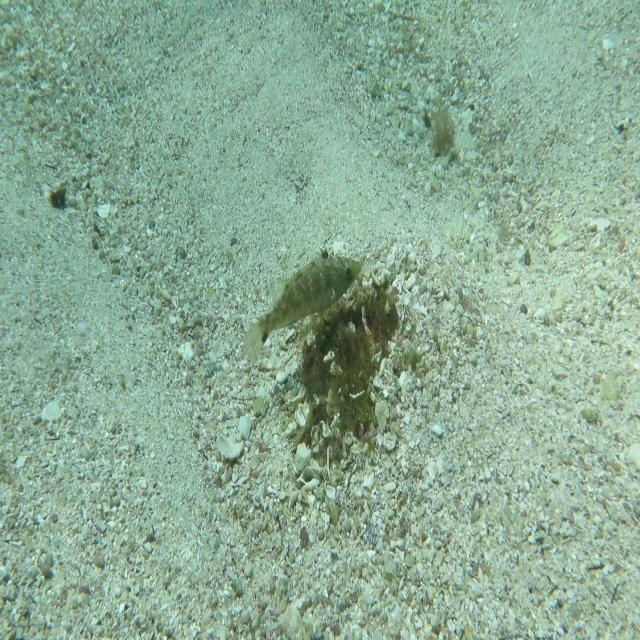FAN: (242, 241, 362, 362)
core_nest: (353, 305, 393, 343)
nest: (285, 260, 414, 472)
vegetation: (426, 108, 459, 160), (50, 183, 68, 209)
